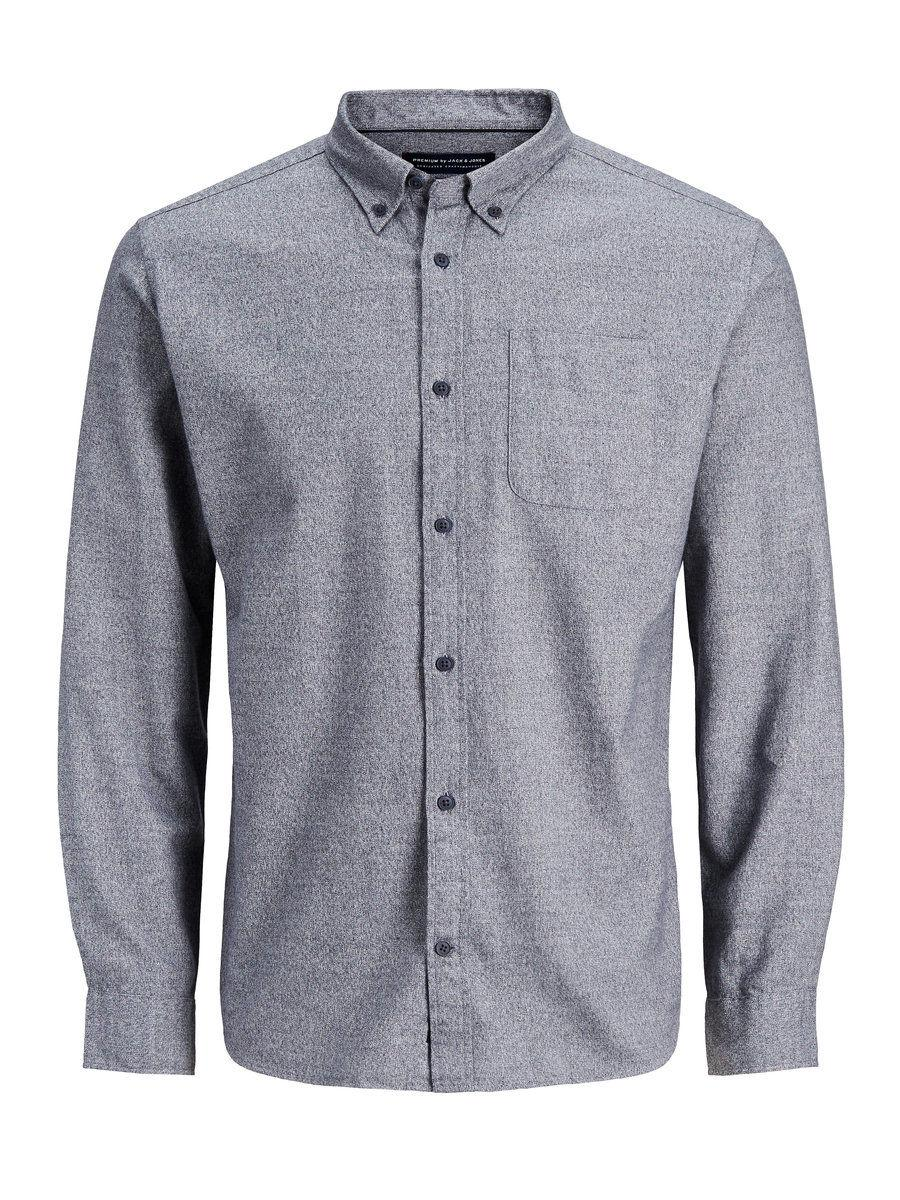teeshirt: (38, 76, 847, 1093)
